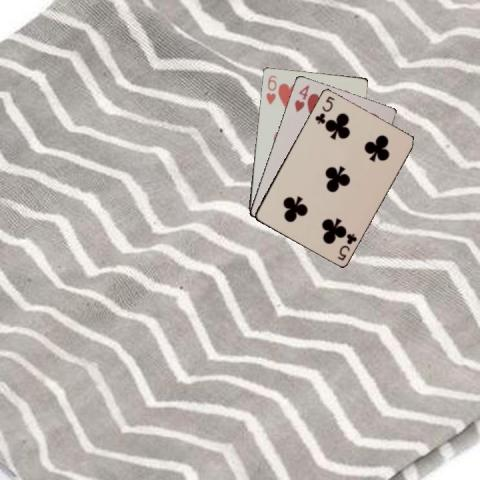4h: (291, 82, 311, 114)
5c: (312, 92, 336, 125), (334, 230, 358, 262)
6h: (263, 72, 278, 106)
